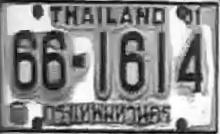1: (94, 30, 107, 98), (156, 31, 166, 95)
4: (176, 31, 204, 96)
6: (10, 30, 36, 92), (119, 30, 144, 93), (41, 30, 66, 90)
BKK: (34, 98, 178, 128)
